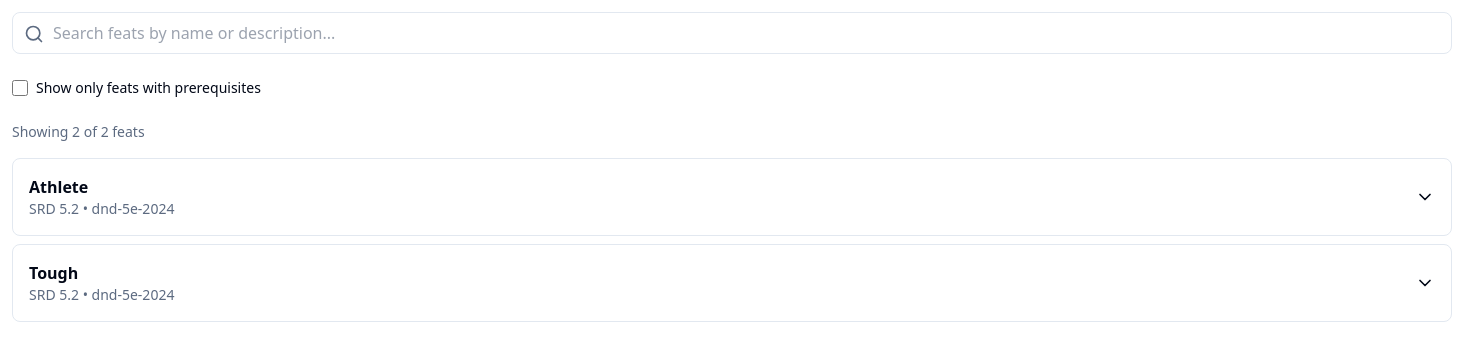
Test: FeatBrowser › filters to feats with prerequisites when checkbox is enabled
The image size is (1464, 339).
Click the checkbox at (20, 88), box [12, 80, 28, 96]
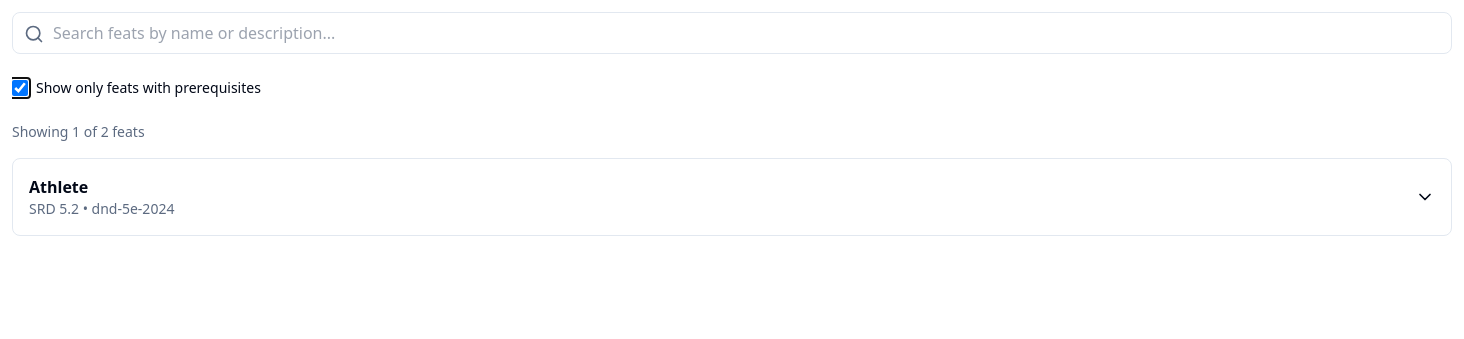
Expected: the heading "Athlete" is shown, [29, 175, 88, 199]
Result: the text "Showing 1 of 2 feats" is shown at [12, 122, 145, 141]
Result: the button "Tough" is gone
